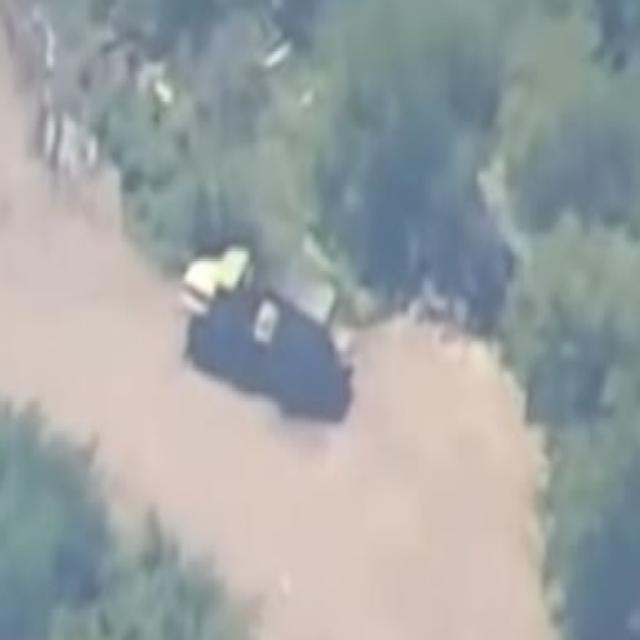MLRS: (175, 224, 341, 416)
